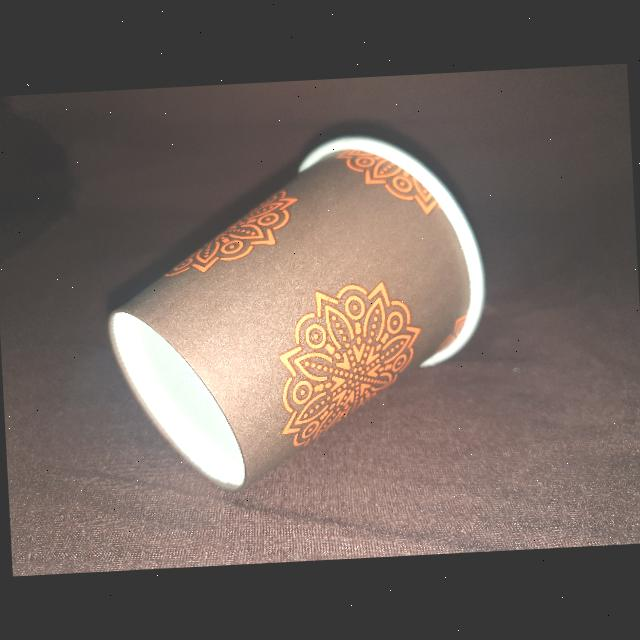trash: (94, 120, 498, 498)
